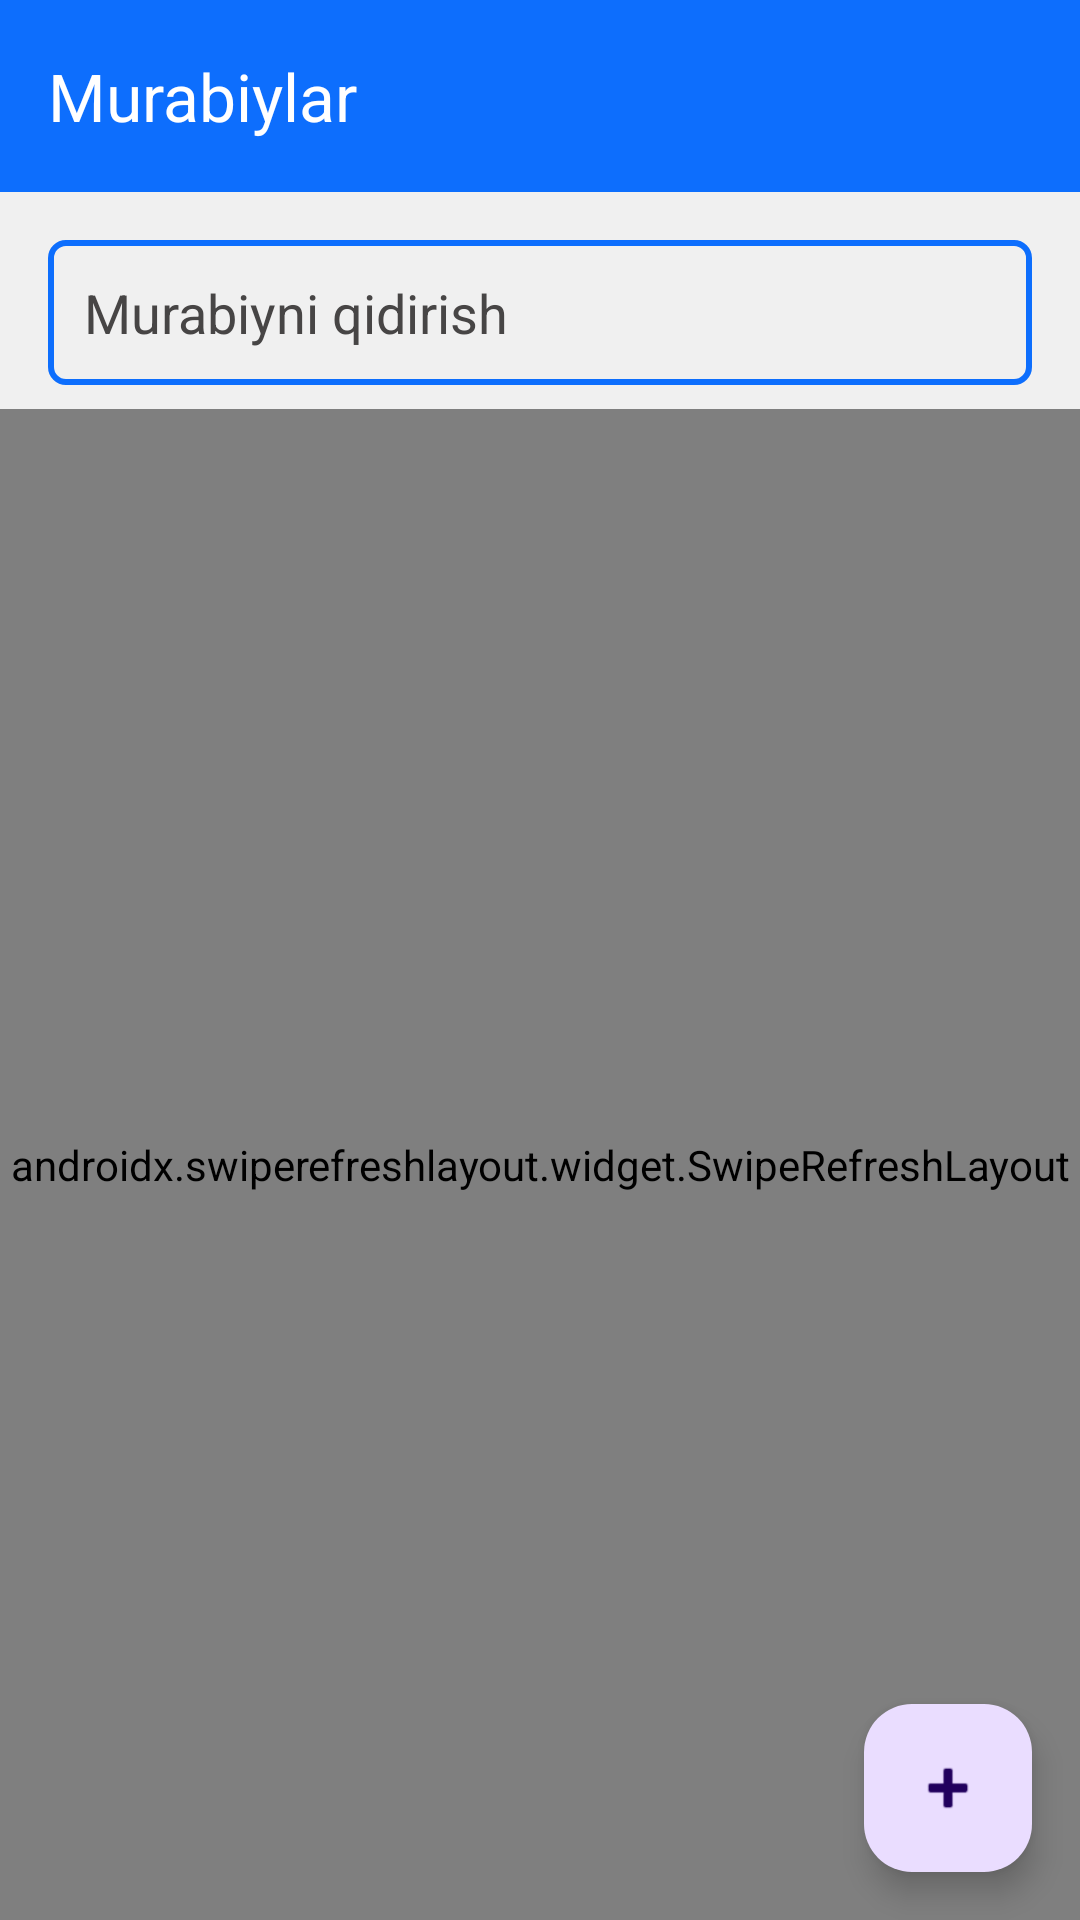

Screen size 1080x1920. Icon name, then its box in pixels as (x1, y1, x2, y2):
Murabiy qo'shish: (864, 1704, 1032, 1872)
